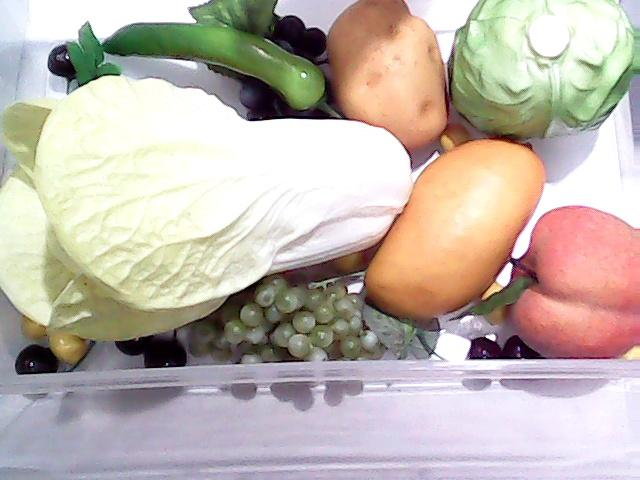cabbage: (444, 0, 640, 144)
grape: (183, 266, 387, 370), (188, 0, 328, 120)
mango: (360, 136, 548, 319)
napa cabbage: (0, 55, 404, 352)
peach: (504, 200, 640, 366)
pepper: (100, 0, 340, 116)
potato: (326, 0, 449, 152)
